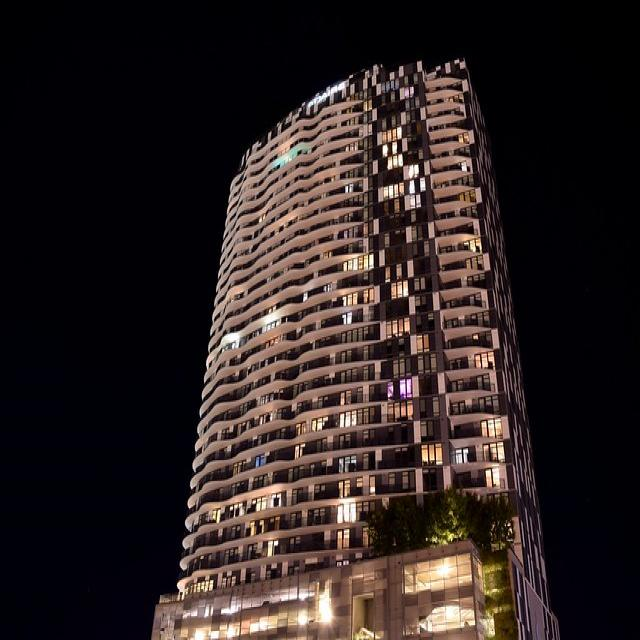Normal_building: (142, 46, 566, 640)
